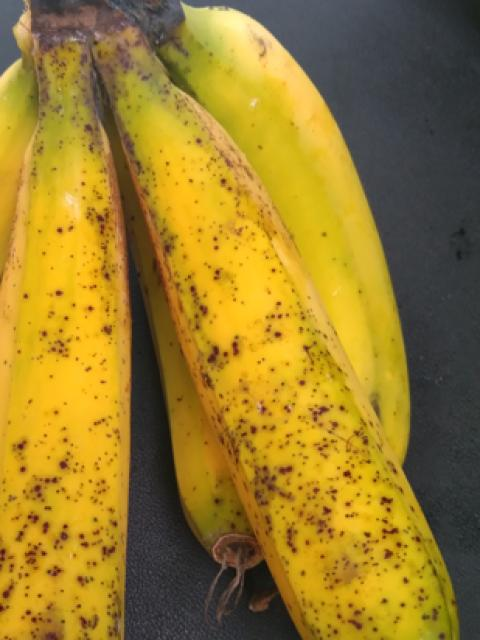ripe: (105, 78, 479, 639), (0, 115, 138, 639)
